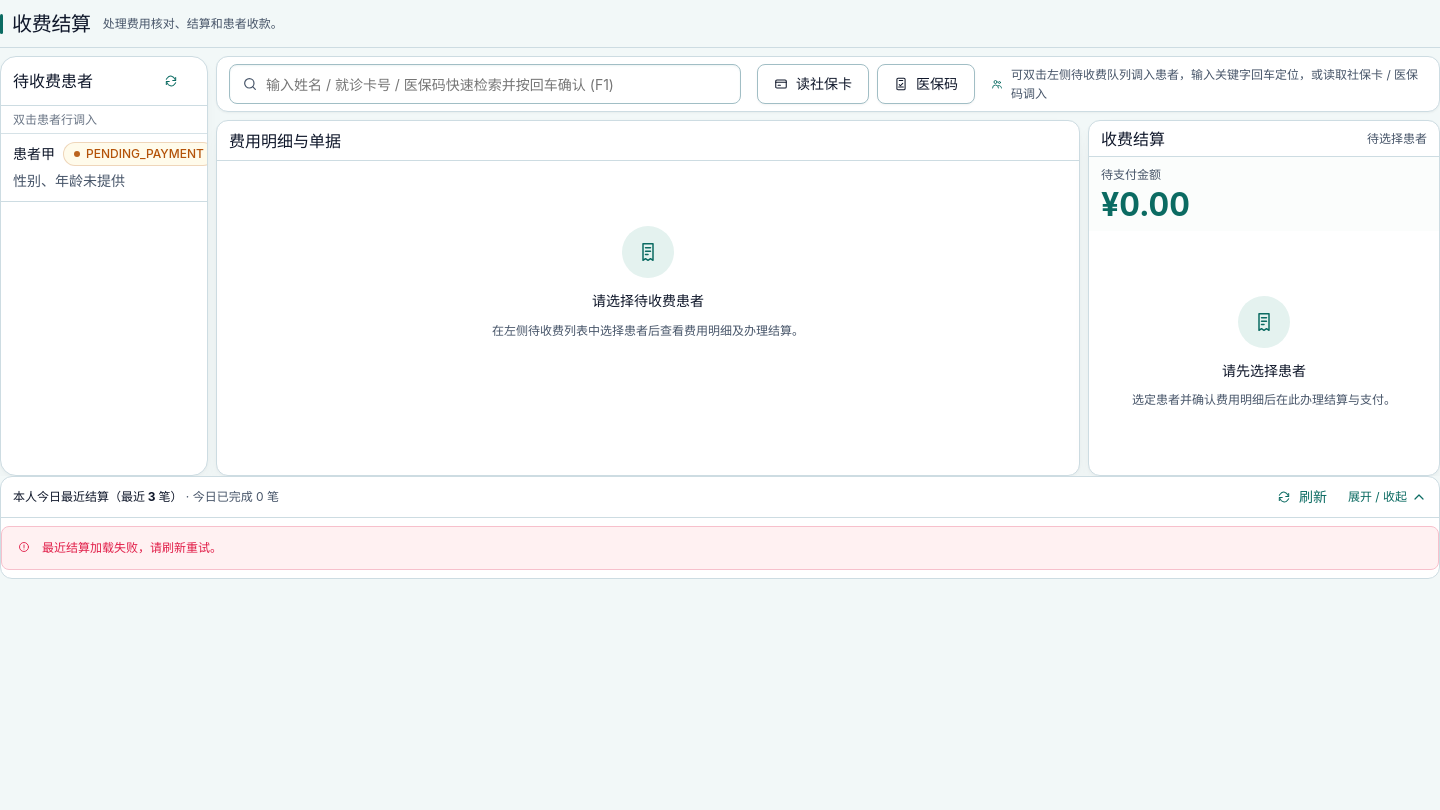
Test: billing business result guards › presents an HTTP-success failed receipt as failed without fabricated receipt numbers
Step 1. Double-click the button "患者甲 PENDING_PAYMENT 性别、年龄未提供" → coordinates (104, 168), box [1,134,207,202]
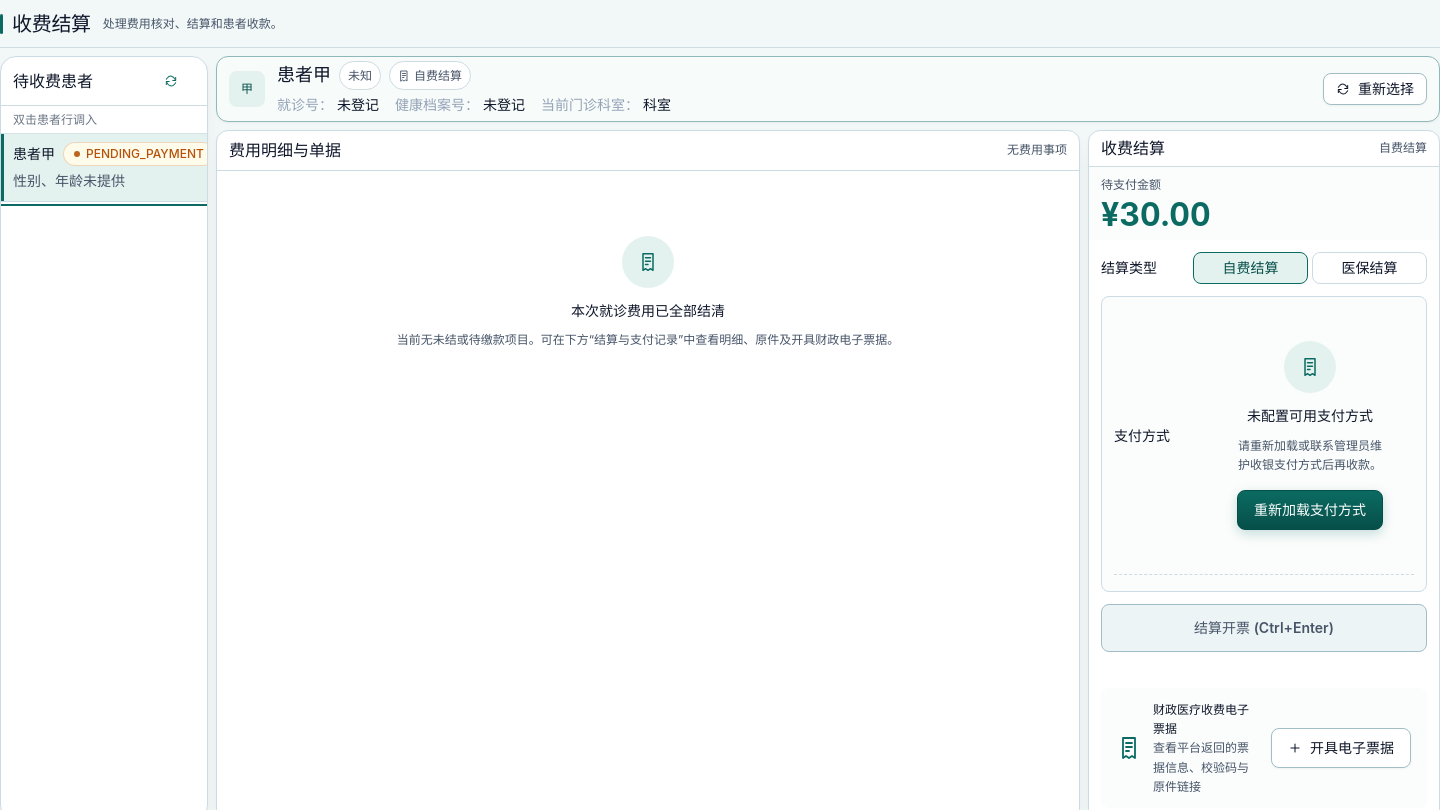
Step 2. Click the button "开具电子票据" → coordinates (1341, 748), box [1271,728,1411,768]
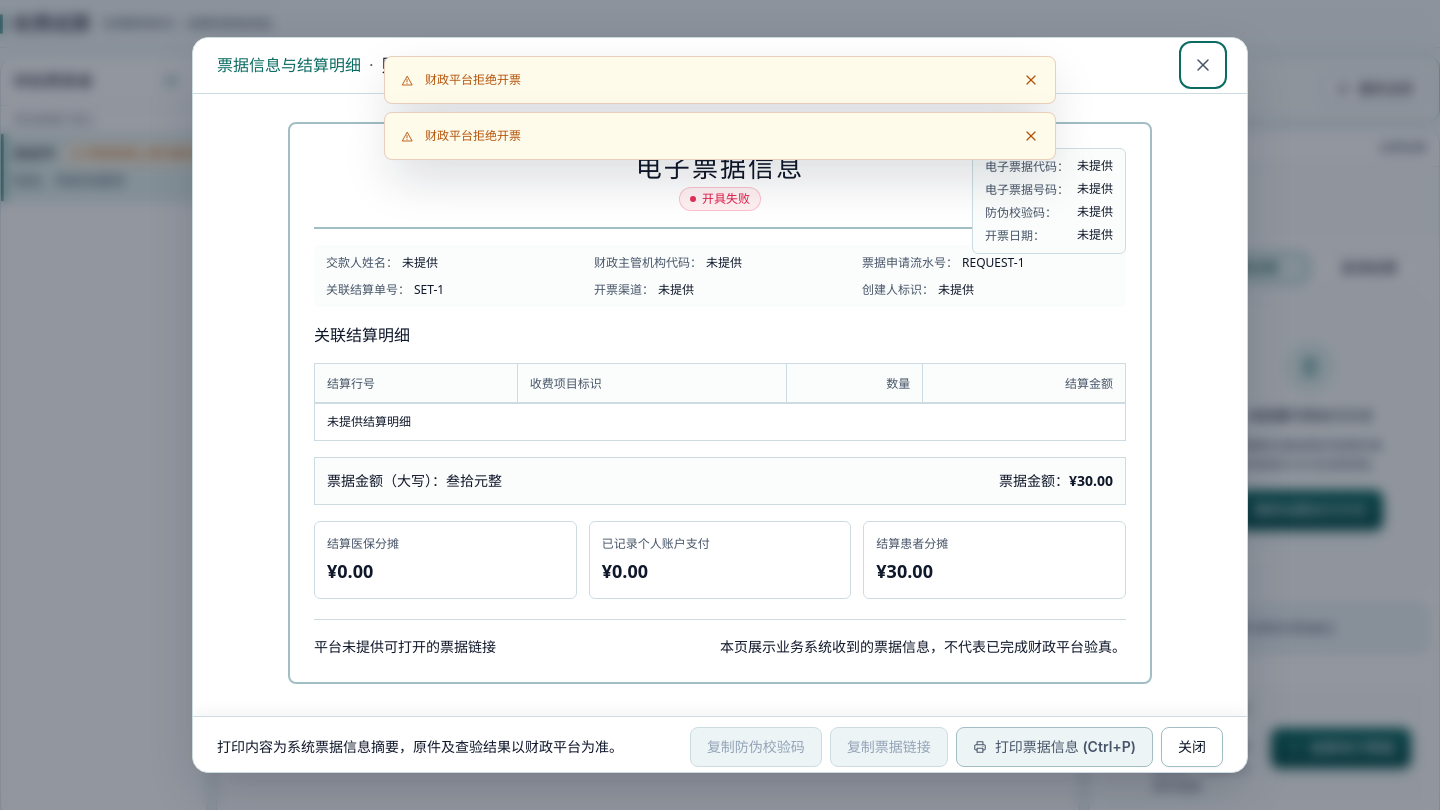
Expected: the text "开具失败" is shown, [679,187,761,211]
